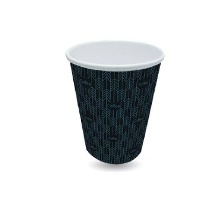paper_cup: (60, 34, 168, 167)
